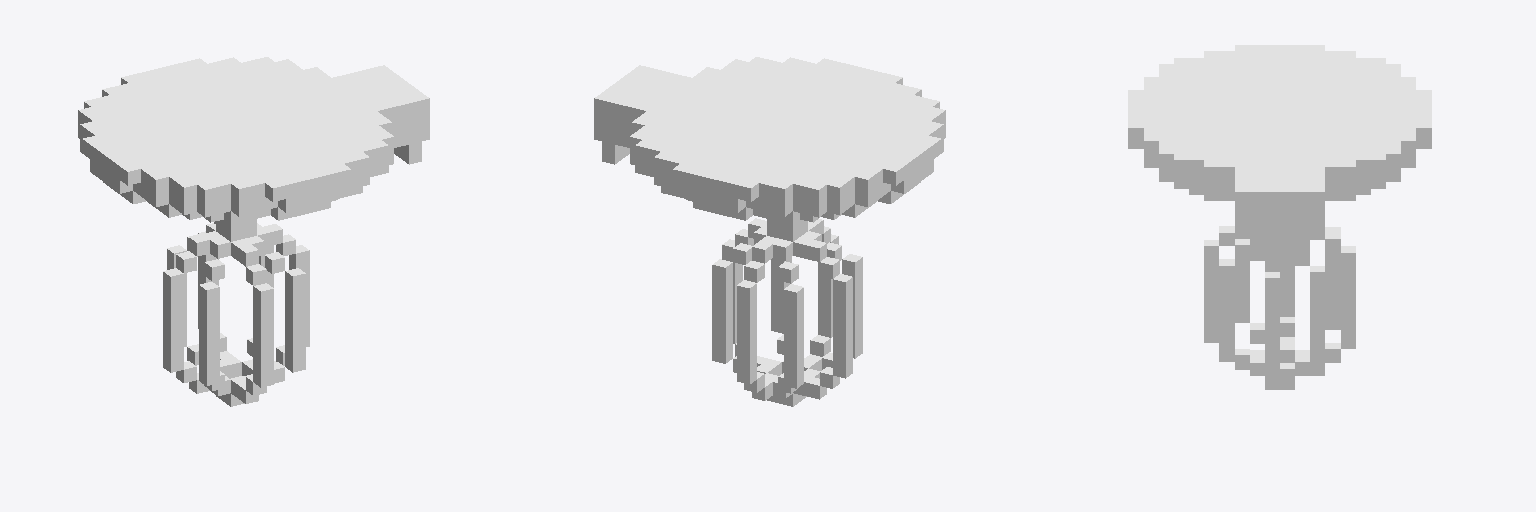
Rendered from ミキサー_ふた.obj.
3 renders of one model, left to right at view 1: azimuth 30°, elevation 25°; view 2: azimuth 150°, elevation 25°; view 3: azimuth 270°, elevation 25°, orthographic.
Parts seen in each view (by area): view 1: object 1; view 2: object 1; view 3: object 1.
Part boxes in pixels (left/top/right/bottom): object 1: left=78, top=57, right=429, bottom=406; object 1: left=594, top=57, right=945, bottom=406; object 1: left=1128, top=45, right=1431, bottom=389.
Bounding box in the file's own units: 2.3 × 2 × 2.